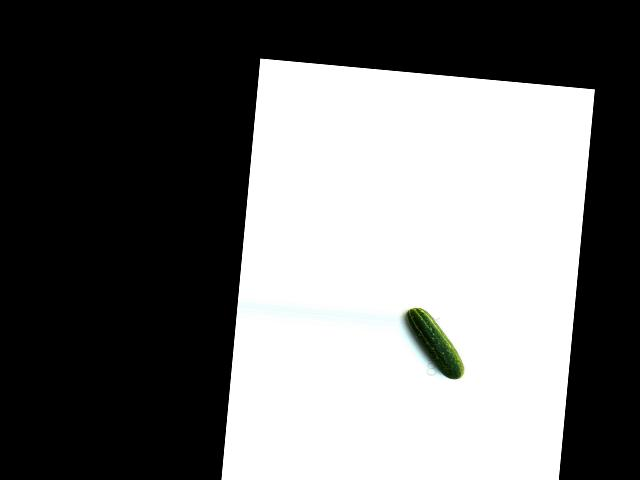cucumber: (400, 306, 469, 379)
